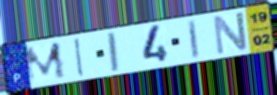4: (141, 23, 174, 66)
I: (105, 31, 121, 74), (187, 18, 201, 60), (73, 36, 85, 79)
M: (22, 40, 68, 85)
N: (212, 10, 249, 57)
